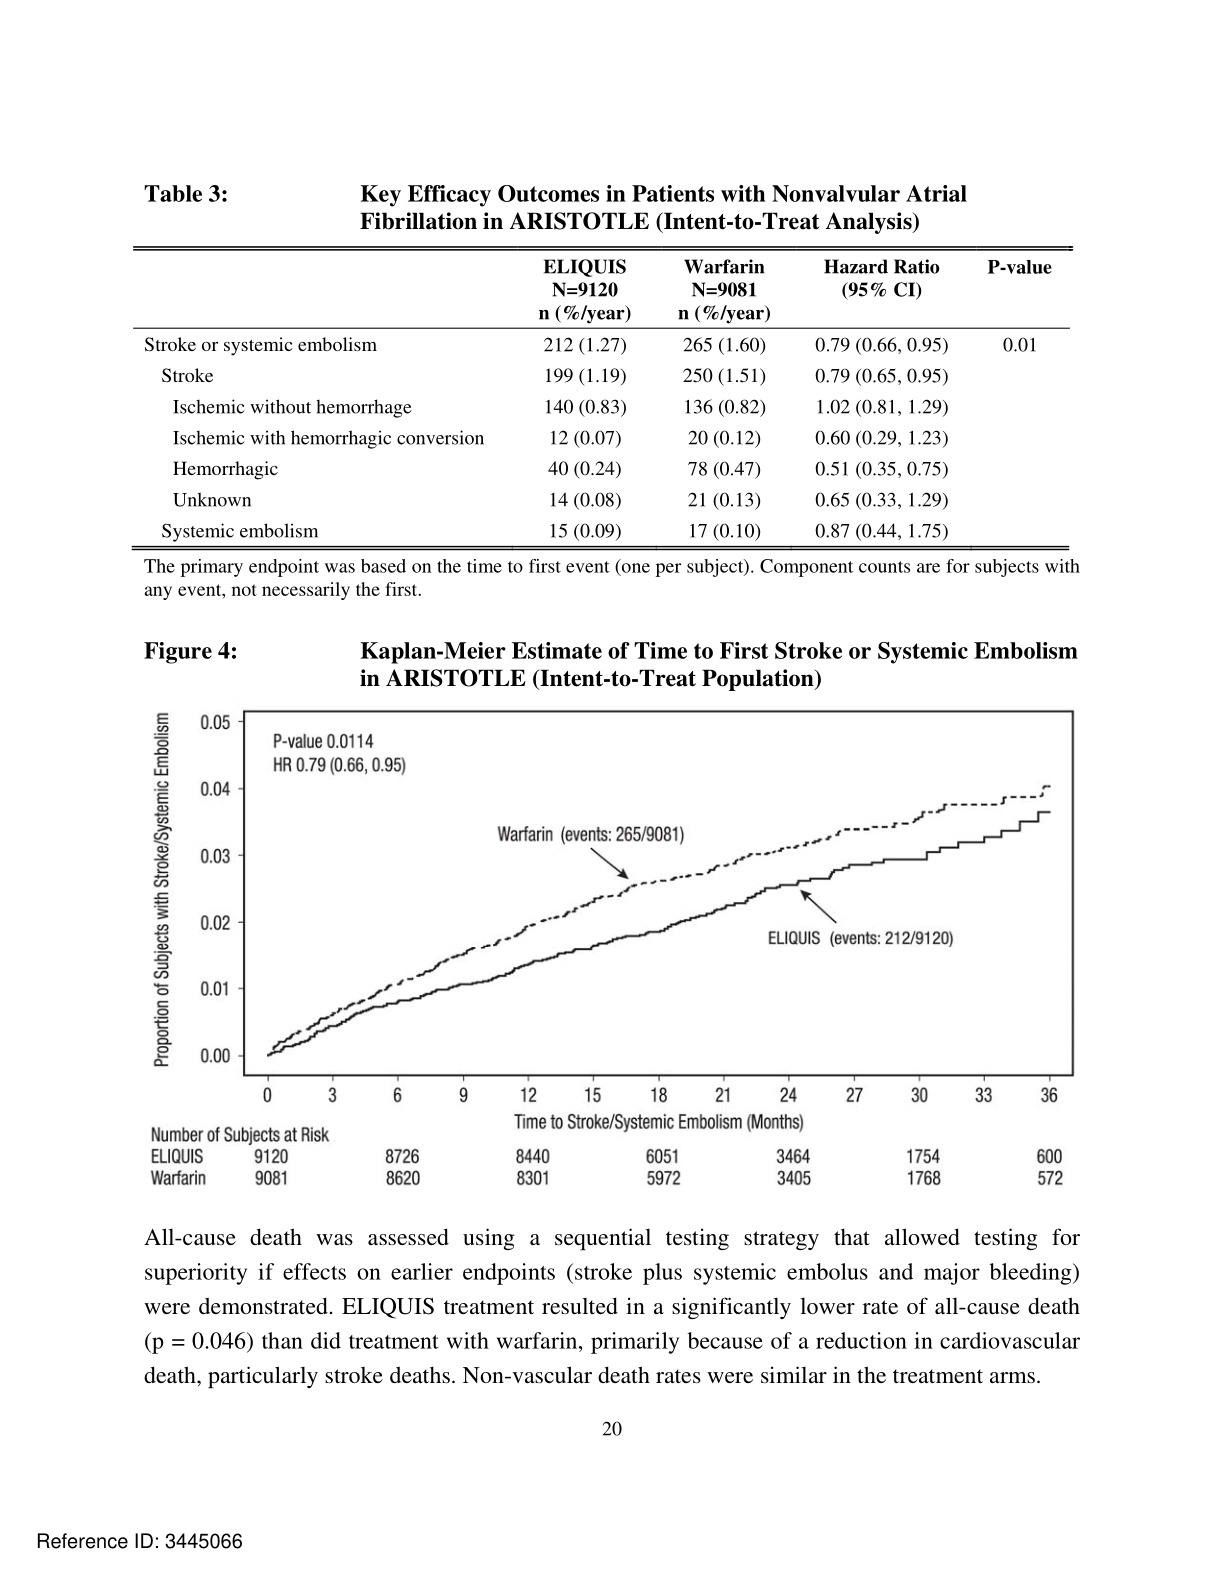nolines: (148, 1143, 1068, 1191)
partial_lined: (131, 242, 1074, 553)
